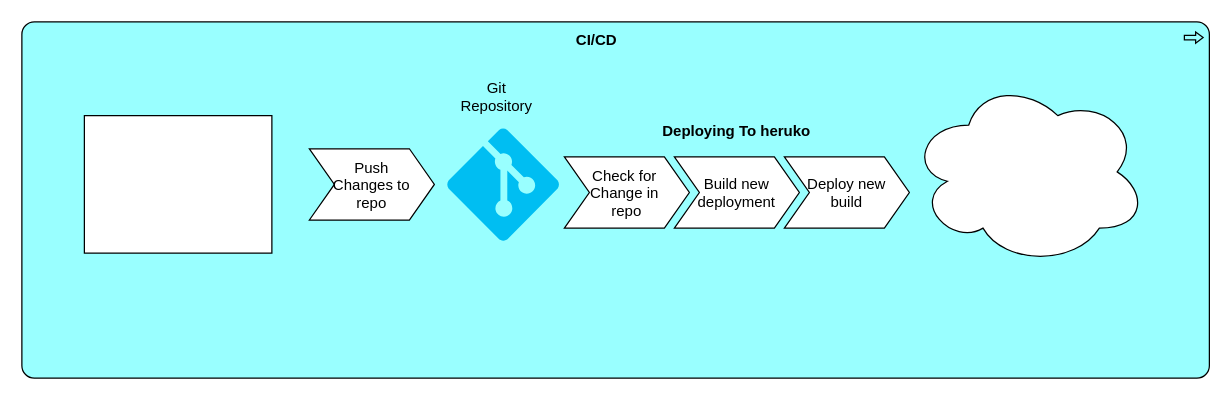
This 1231x400 diagram has some shape labels left out. The shapes that lost their labels are listed below. From the top down, each one's centre as x and y in pixels, then its label:
At (x=177, y=183): "Development Enviornment (Local)".
At (x=1027, y=171): "Heruko (Cloud)".
